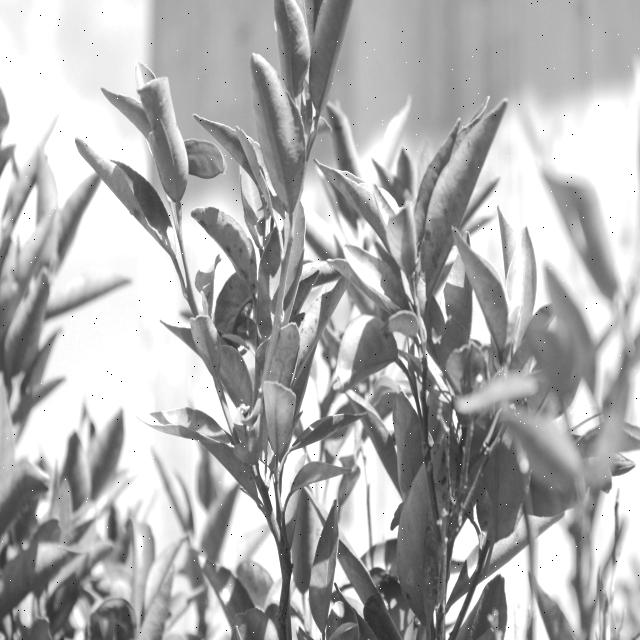melanose: (418, 88, 512, 288), (87, 133, 177, 260), (190, 190, 261, 305), (291, 277, 332, 408)
